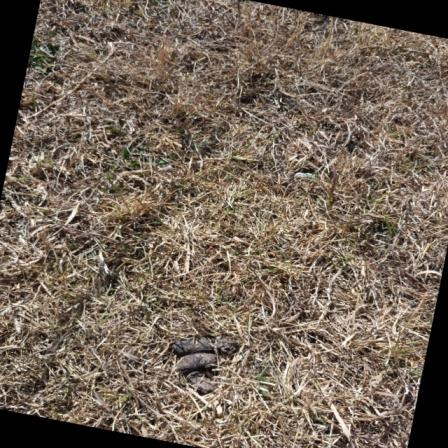dog-poop: (172, 330, 236, 394)
